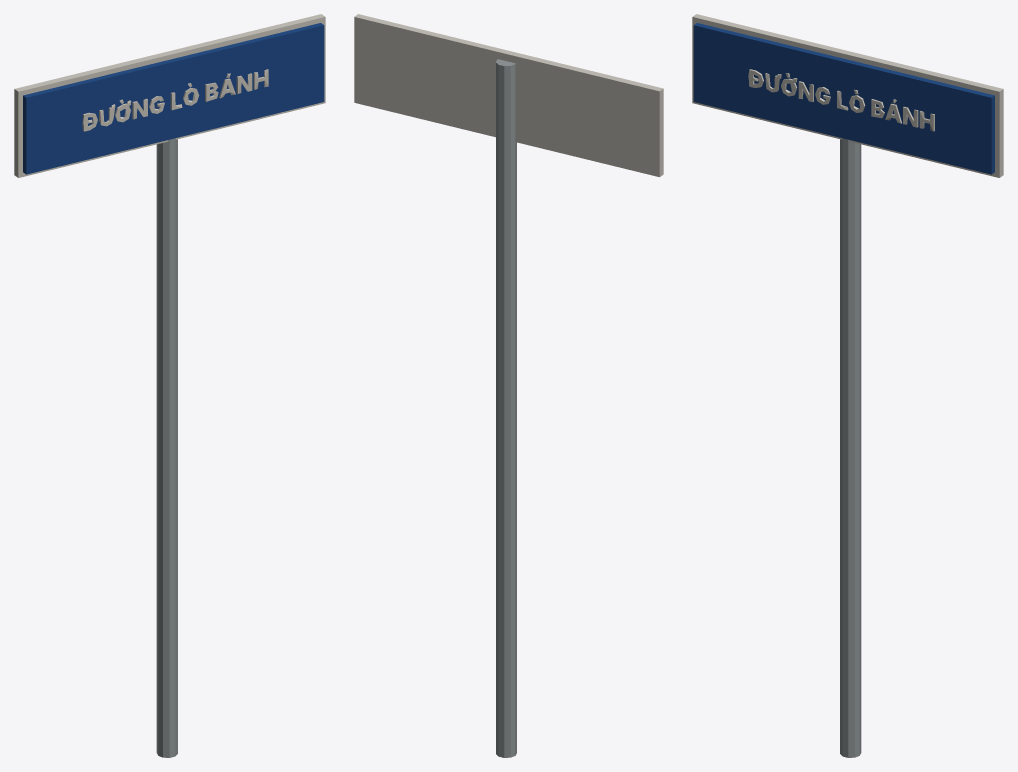
Rendered from bien_duong.glb.
The picture shows the model from 3 angles, left to right: view 1: azimuth 30°, elevation 25°; view 2: azimuth 150°, elevation 25°; view 3: azimuth 330°, elevation 25°; orthographic projection.
Parts seen in each view (by area): view 1: bien_duong; view 2: bien_duong; view 3: bien_duong.
Part boxes in pixels (x1,y1,x2,y2): bien_duong: (14, 14, 325, 757); bien_duong: (354, 14, 663, 757); bien_duong: (692, 14, 1003, 757).
Bounding box in the file's own units: 1.34 × 2.93 × 0.107.
